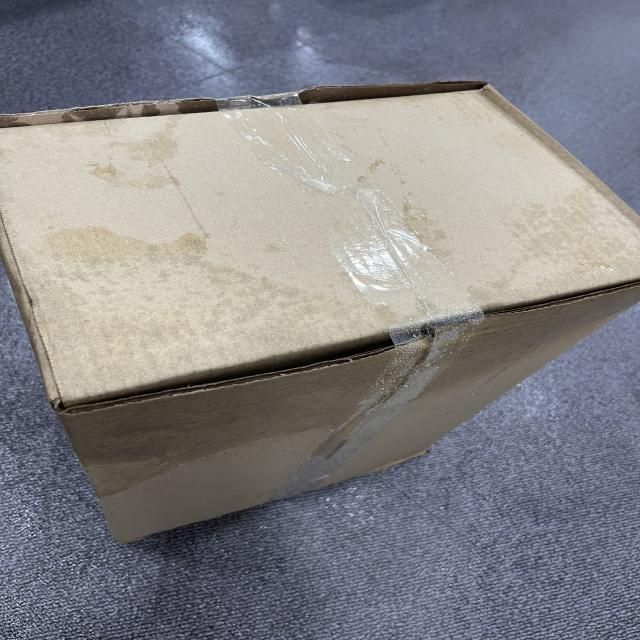wet: (32, 201, 321, 509)
